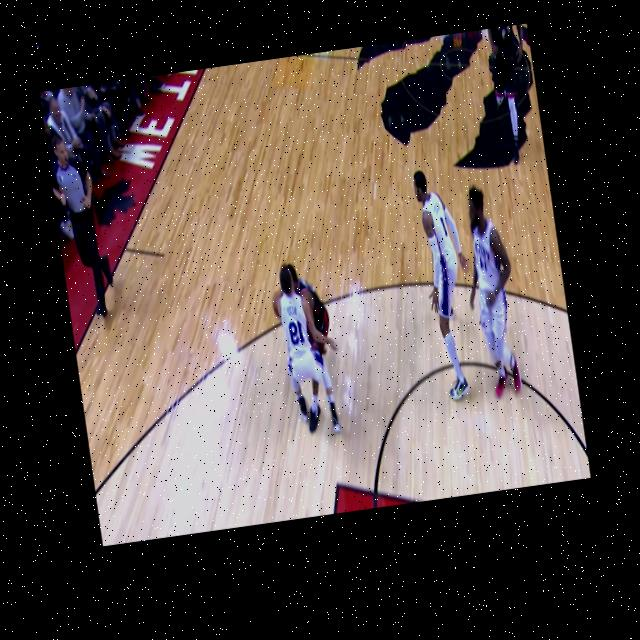Foul: (270, 253, 337, 422)
